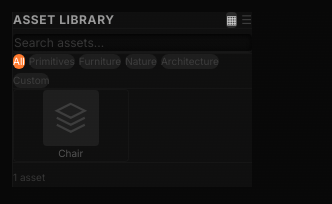
Scenario: AssetBrowserPanel › list view renders asset type and source info
This screenshot has width=332, height=204.
What coordinates should you click on to do the following:
click the button named "List view"
I would click on:
 (247, 20)
Its box is [241,12,252,28].
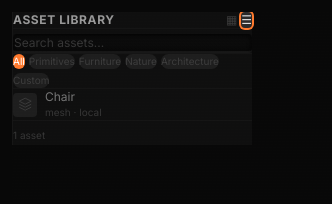
Expected: the text "mesh · local" is shown, [45,106,102,118]
